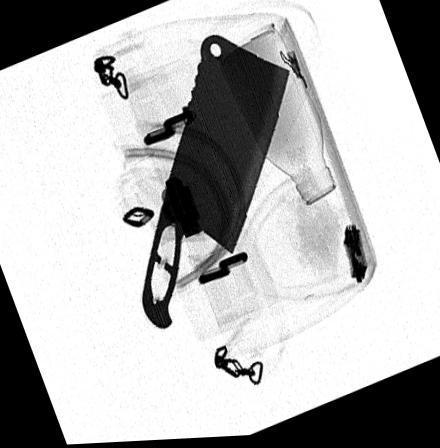Knife: (139, 35, 291, 331)
